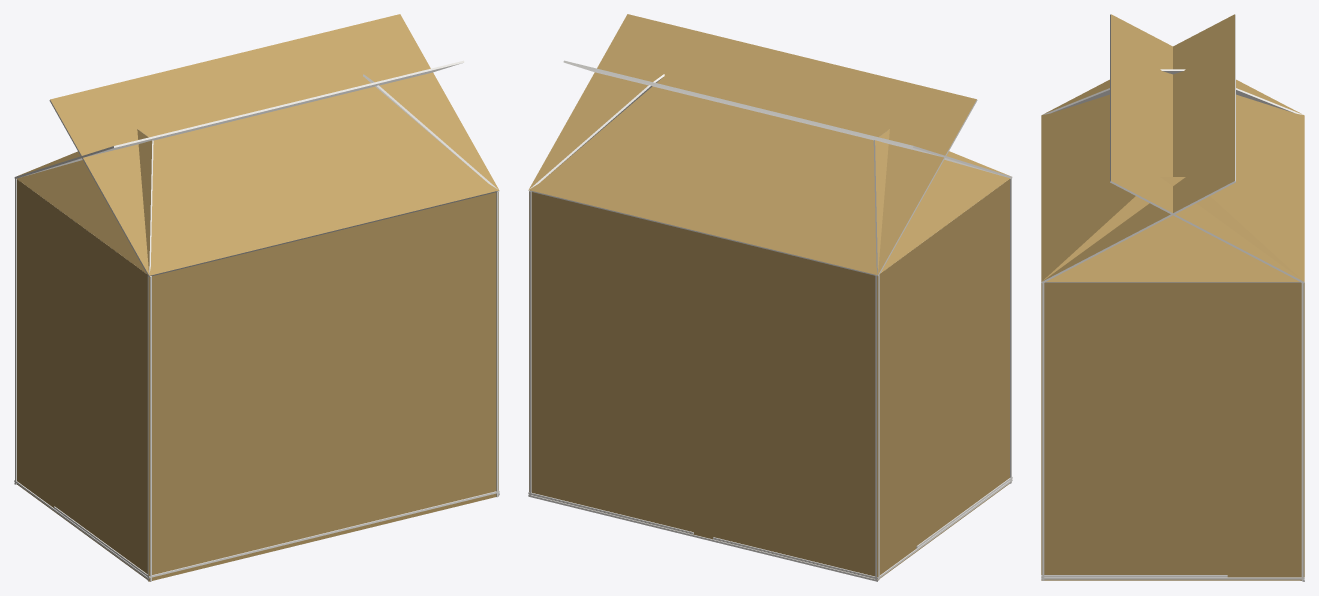
3 renders of one model, left to right at view 1: azimuth 30°, elevation 25°; view 2: azimuth 150°, elevation 25°; view 3: azimuth 270°, elevation 25°, orthographic. The views are drawn at different scales.
Visible parts, largest first — view 1: Packive_Box_fefco0217; view 2: Packive_Box_fefco0217; view 3: Packive_Box_fefco0217.
Part boxes in pixels (x1,y1,x2,y2): Packive_Box_fefco0217: [14, 14, 499, 581]; Packive_Box_fefco0217: [528, 14, 1012, 581]; Packive_Box_fefco0217: [1041, 14, 1304, 581].
Size of the model in its own units: 0.3 by 0.3365 by 0.2.
Materials: 26 (13 with a texture image).
